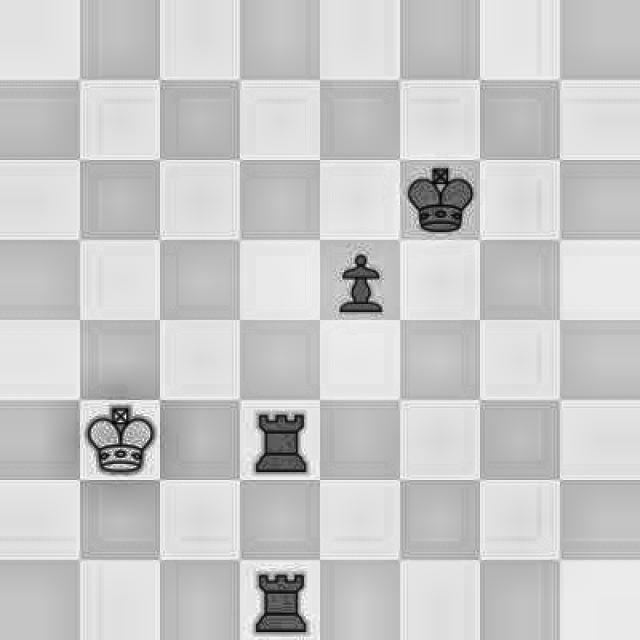black king: (400, 160, 476, 243)
black pawn: (320, 252, 398, 312)
black rook: (236, 559, 312, 640), (239, 400, 314, 480)
